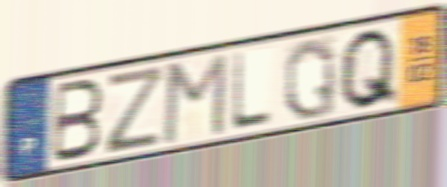B: (48, 76, 106, 167)
L: (228, 49, 275, 134)
M: (159, 49, 230, 148)
Q: (336, 25, 401, 114), (282, 35, 338, 123)
Z: (104, 61, 169, 157)
